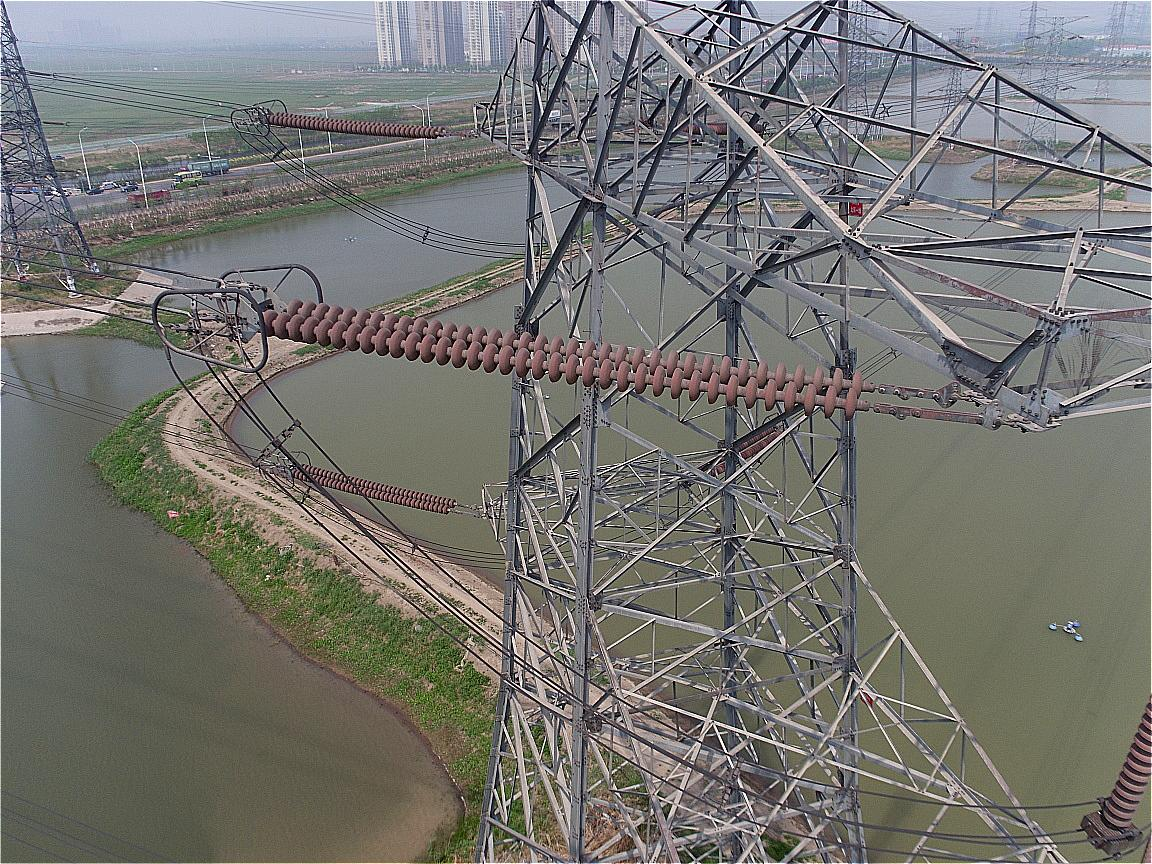insultor1: (263, 297, 867, 421), (287, 460, 457, 516), (266, 110, 448, 140)
